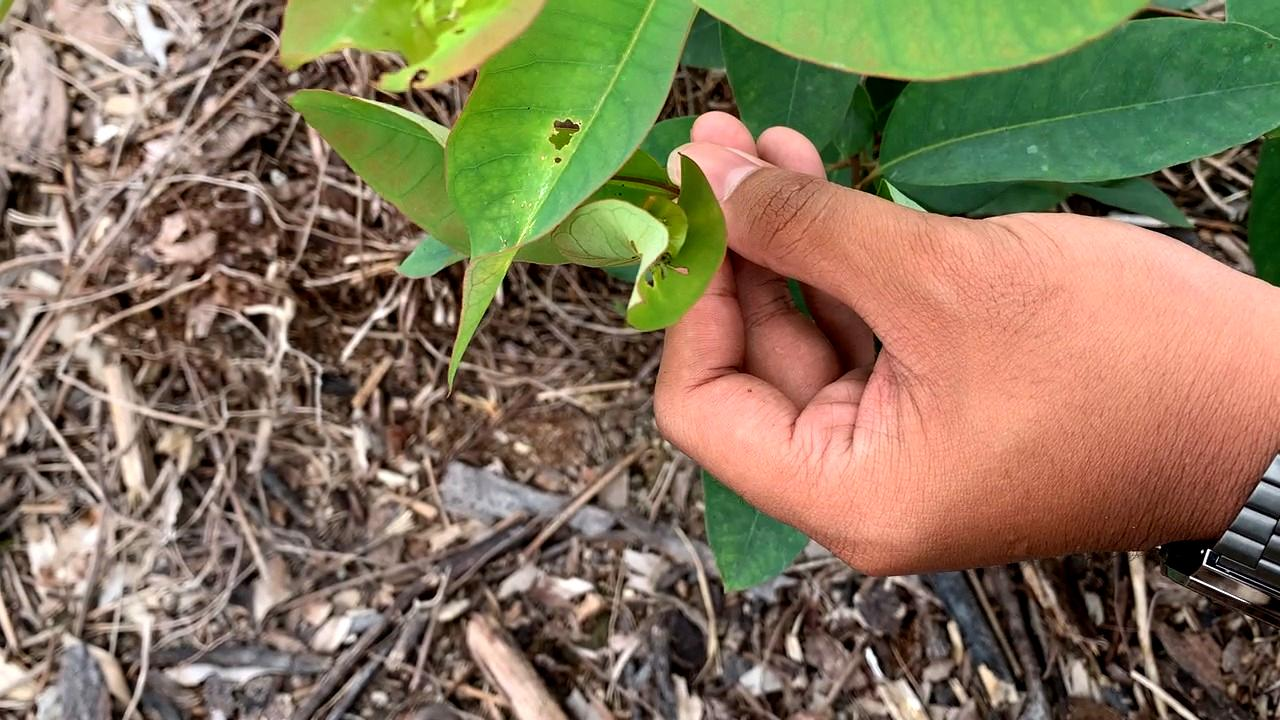Leaf Roller - Leaf: (576, 183, 726, 301)
